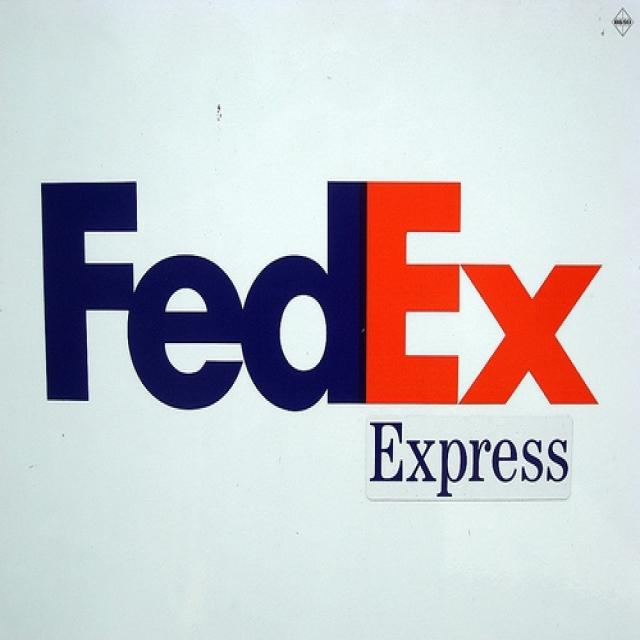fedex: (39, 172, 608, 418)
